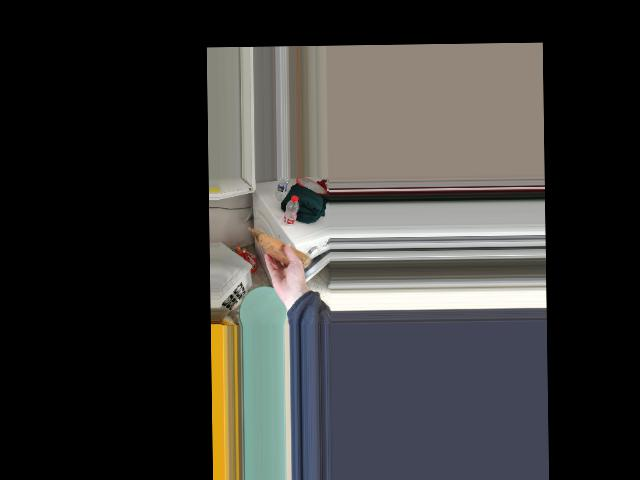sweet_potato: (262, 231, 297, 265)
